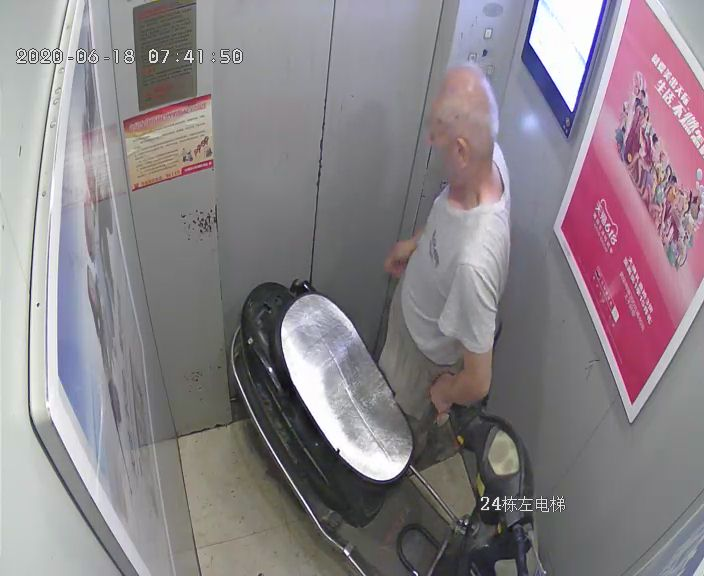Electric-bicycle: (227, 277, 542, 574)
